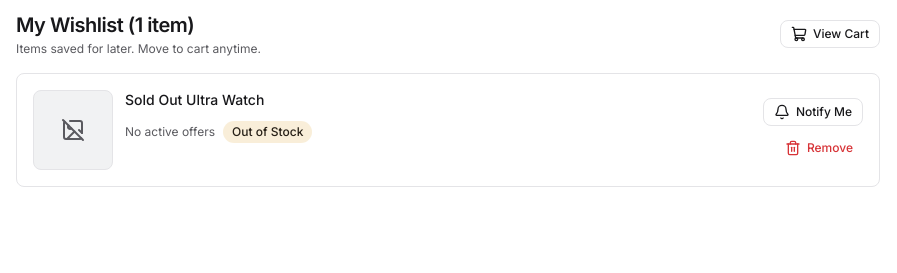
Scenario: Customer Back-in-Stock Alerts (Frontend UI) › 7. Wishlist integration: unavailable item allows toggling back-in-stock notification
Expected: the link "Sold Out Ultra Watch" is shown, [125,91,264,108]
Click the button with test id "stock-alert-button-prod-out": (813, 112) [763,98,863,126]
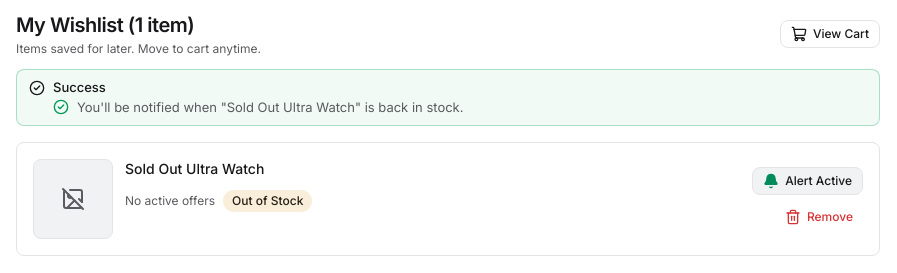
Expected: the button with test id "stock-alert-button-prod-out" reads "Alert Active", [752,167,863,195]
